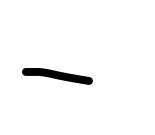minus: (22, 68, 93, 85)
